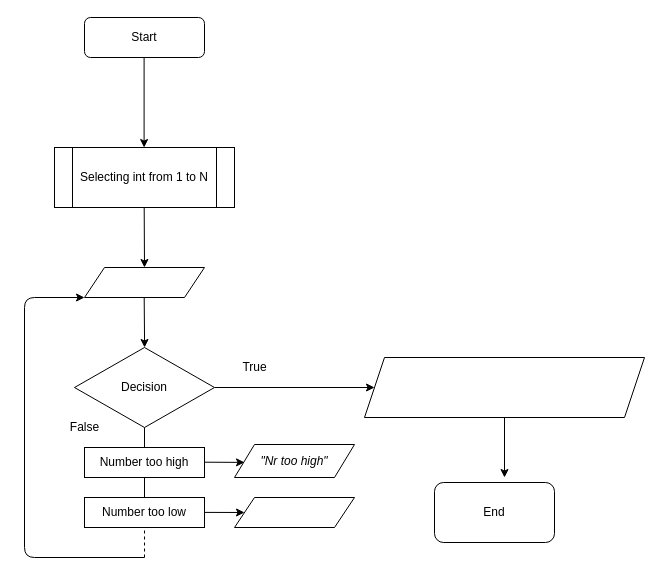
The diagram is 662 pixels wide and 583 high, and some of its shapes have lost their labels. The centre of each missing label's shape, as x and y in pixels:
"Nr too low": point 294,512
Input: point 144,282
You are correct - the random Nr is <input>: point 504,387
